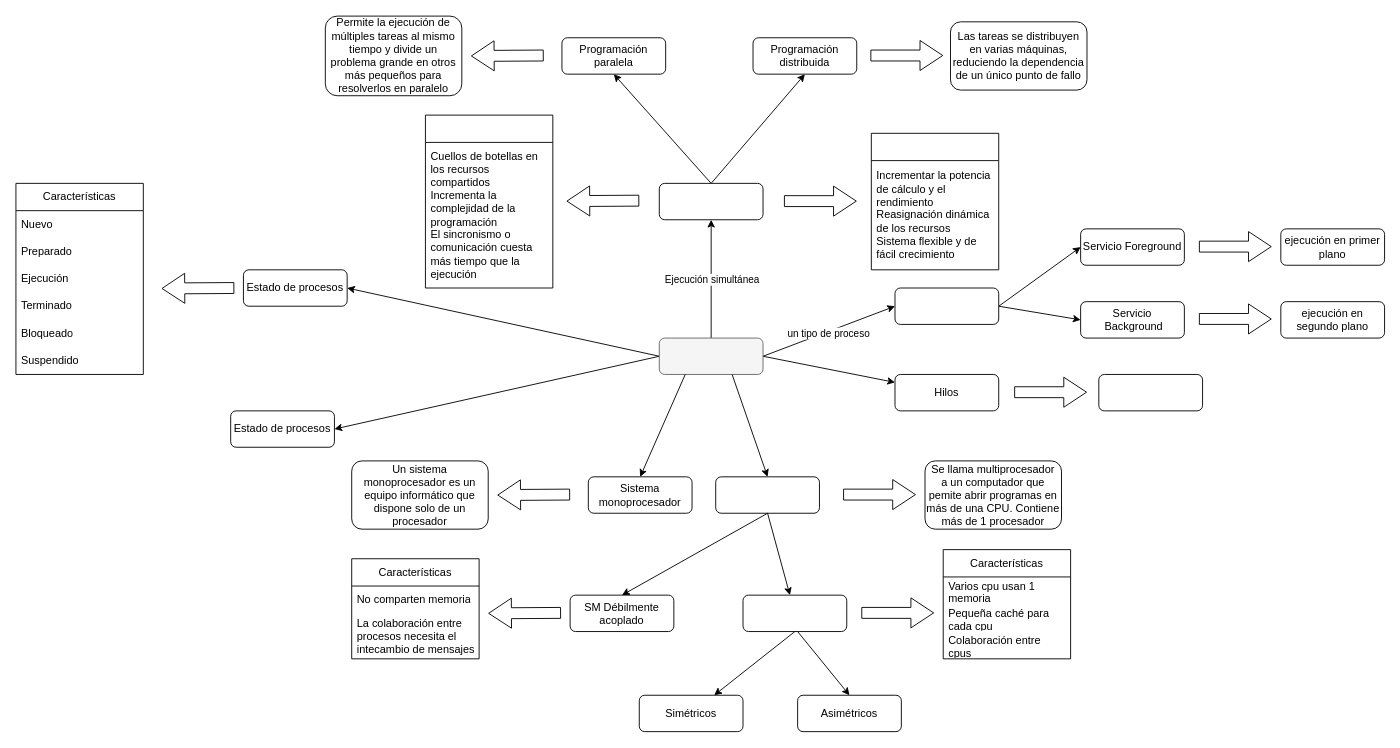
Some shapes in this 1400 by 748 pixel diagram are drawn without their labels. The box of each missing label's shape, as (x1, y1, x2, y2) in pixels:
Comparten recursos de procesos y memoria: (1098, 374, 1203, 411)
Concurrencia: (658, 182, 763, 220)
Desventajas: (425, 114, 553, 288)
Procesos: (658, 337, 763, 374)
Servicio: (894, 287, 999, 324)
Sistema multiprocesador: (715, 476, 819, 513)
SM Fuertemente acoplado: (742, 594, 847, 632)
Ventajas: (870, 132, 999, 270)
